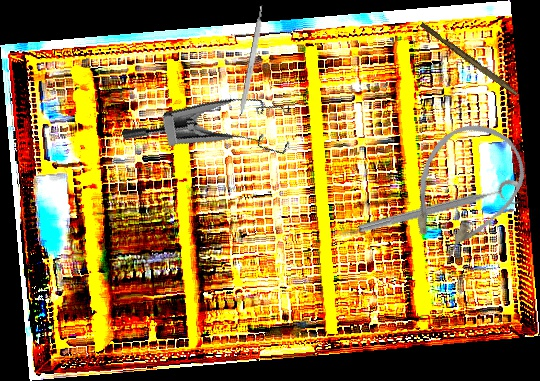Cannula: (387, 108, 540, 274)
Fixation Ring: (356, 176, 526, 247)
Scalpel Handle: (418, 21, 521, 97), (238, 3, 267, 118)
Speculum: (120, 67, 305, 208)
